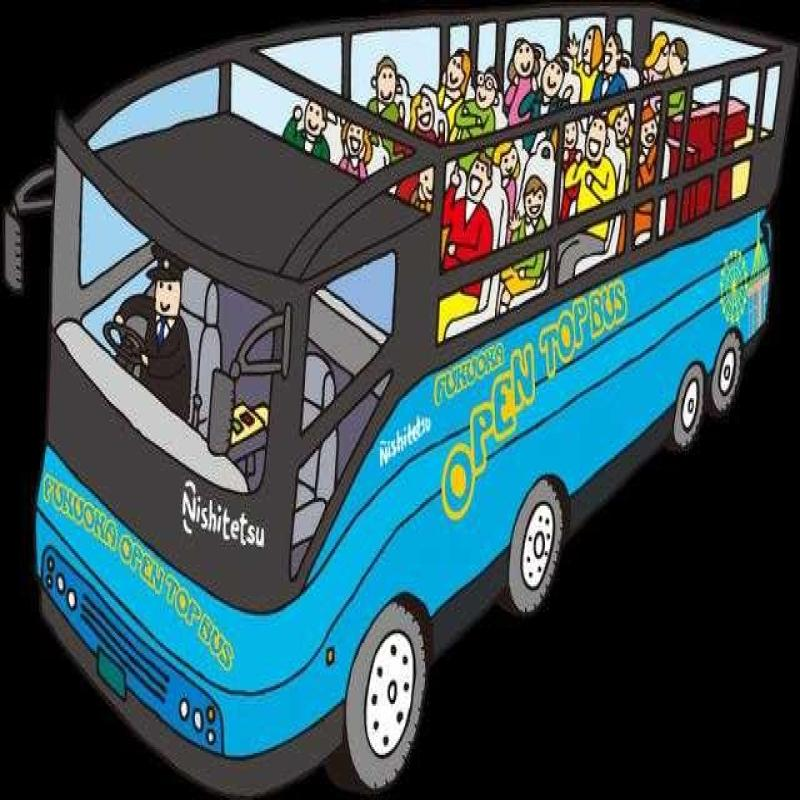bus: (34, 49, 800, 729)
